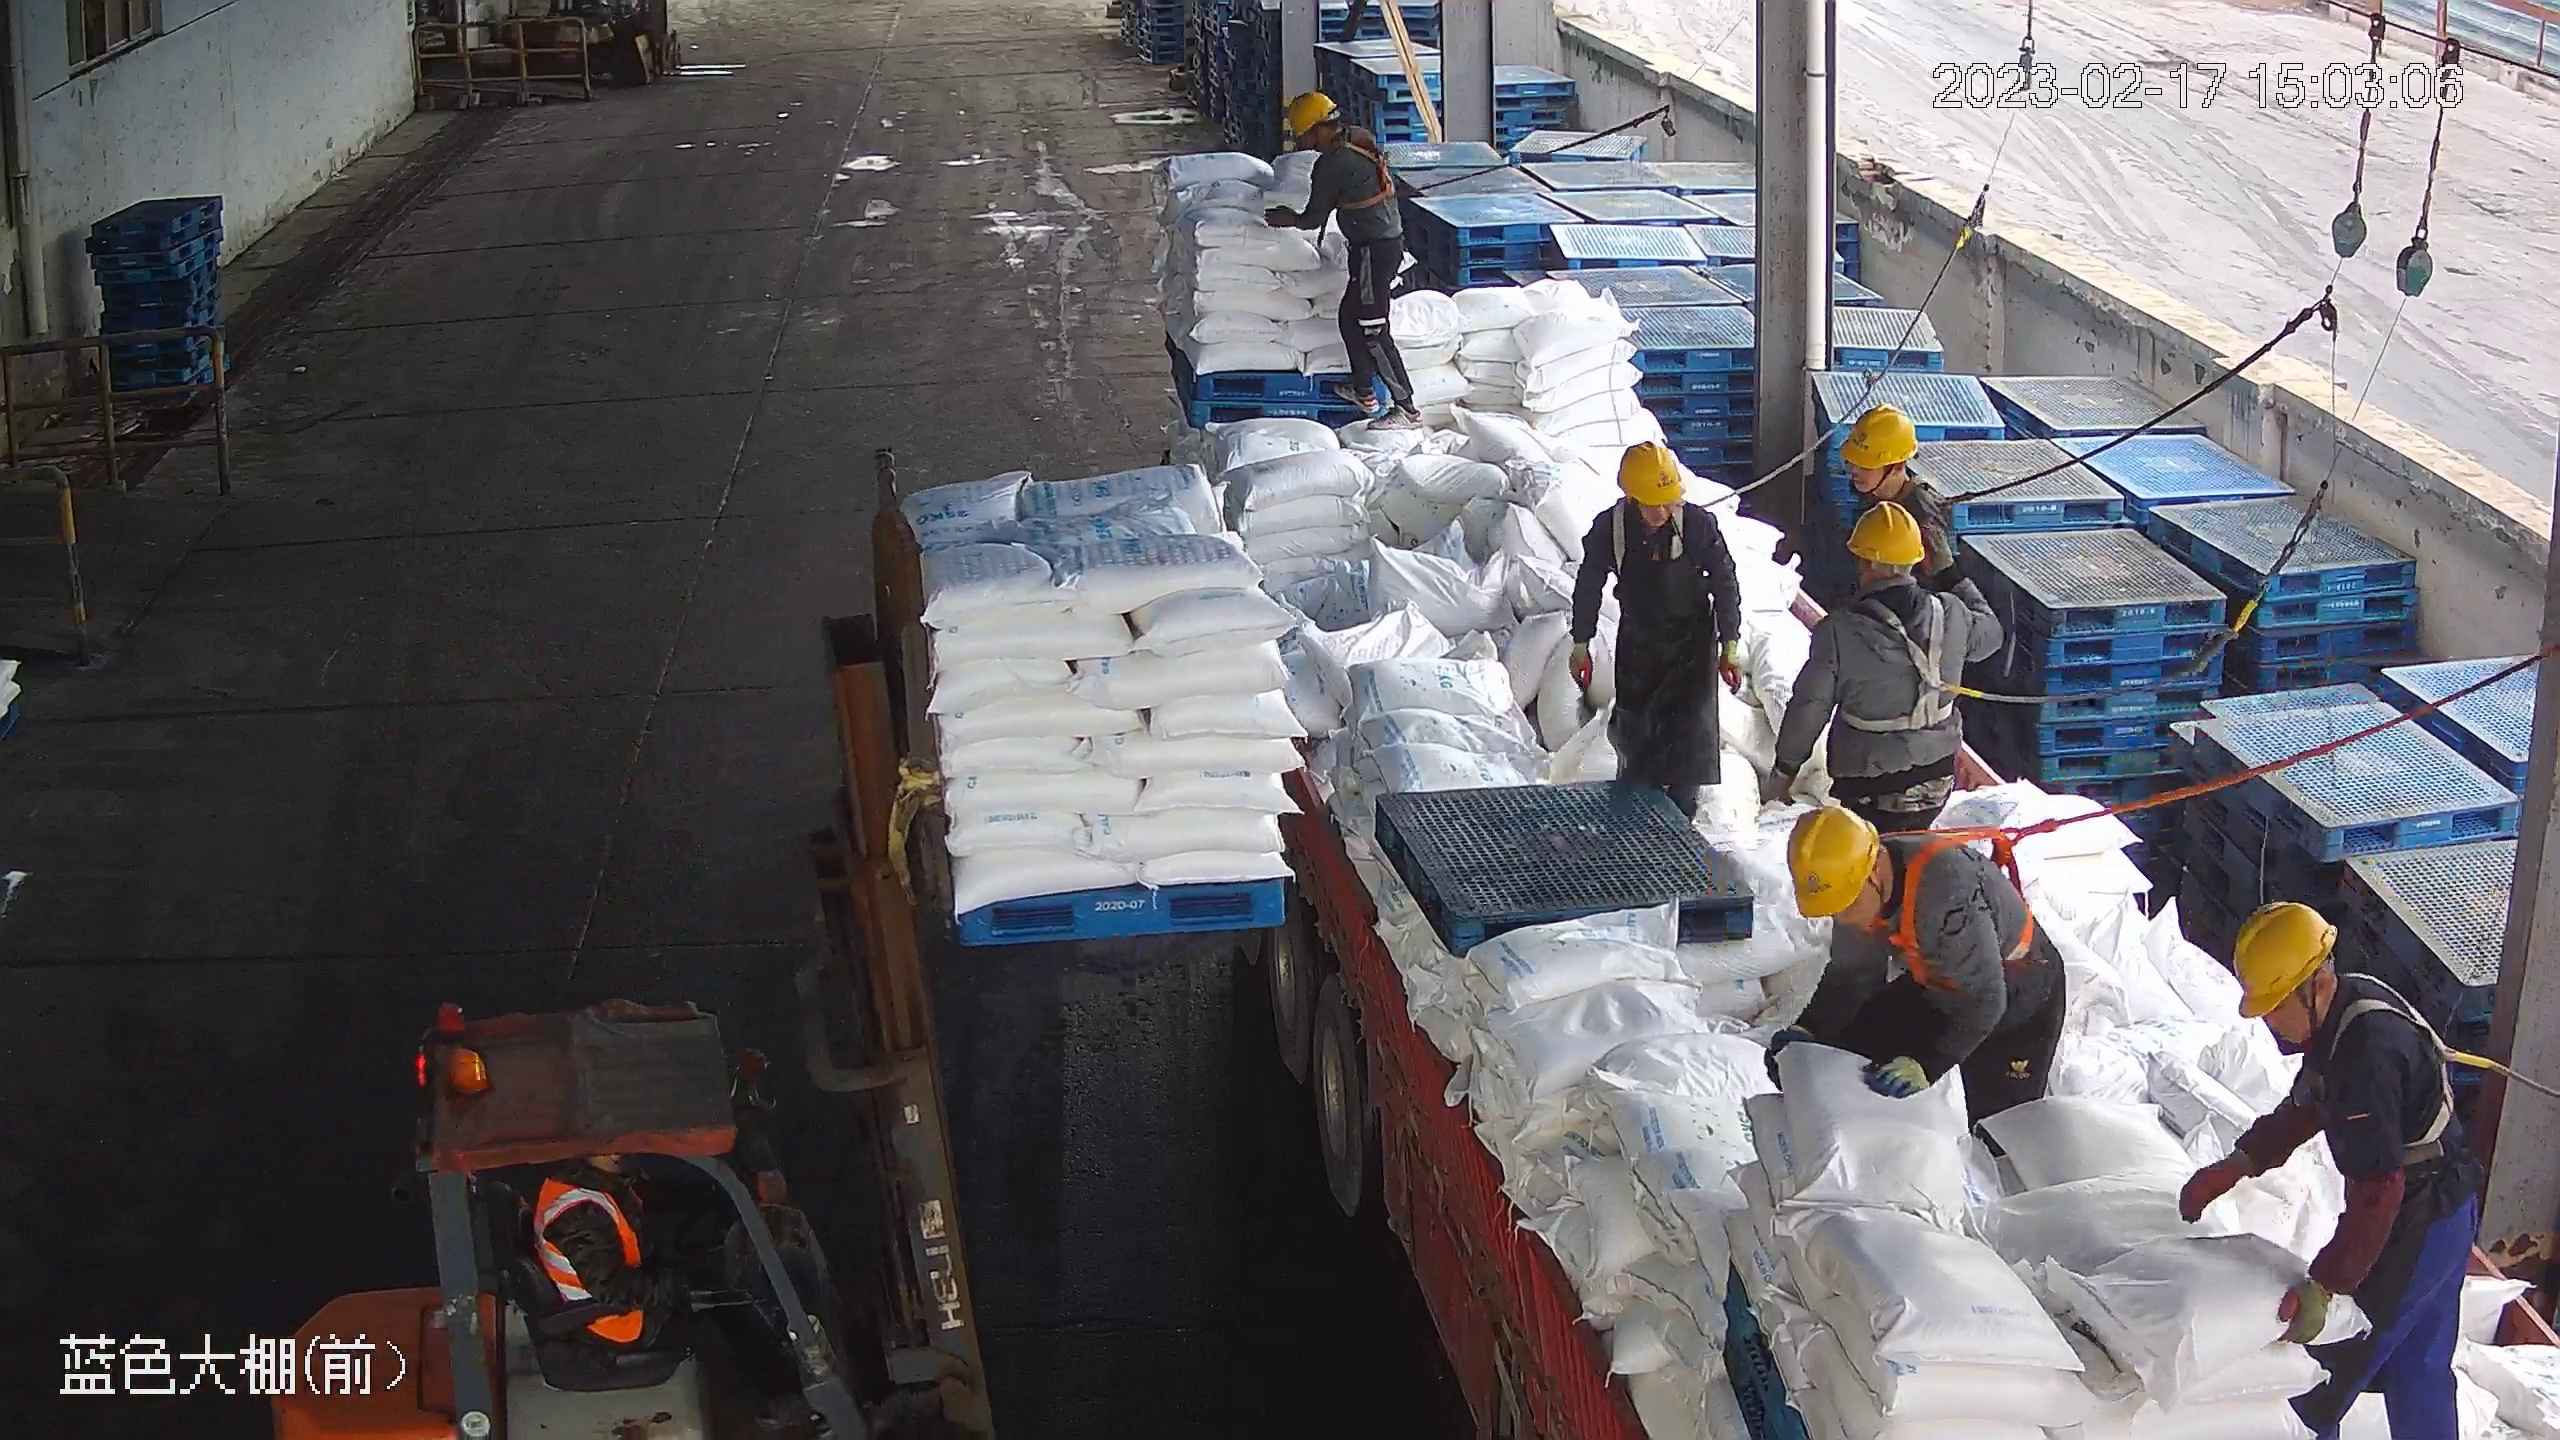belt: (2295, 980, 2494, 1168), (1867, 820, 2048, 989), (1831, 582, 2000, 741), (1321, 126, 1408, 214), (1616, 495, 1698, 562)
head: (2226, 897, 2447, 1093), (1785, 801, 2012, 953), (1803, 499, 1965, 668), (1580, 437, 1736, 566), (1286, 89, 1397, 179)
helmet: (2224, 895, 2339, 1026), (1780, 799, 1882, 919), (1844, 500, 1930, 566), (1836, 403, 1921, 468), (1614, 437, 1684, 505), (1285, 89, 1340, 141)
people: (2175, 896, 2489, 1438), (1756, 797, 2069, 1166), (526, 1152, 807, 1427), (1758, 500, 1979, 828), (1569, 436, 1749, 813), (1261, 88, 1426, 426)
truck: (1099, 132, 2525, 1438)
